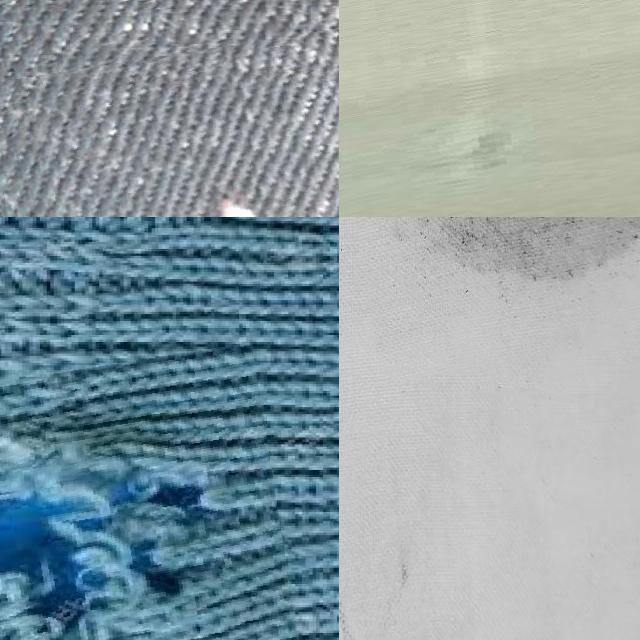Thread_other: (358, 217, 640, 367)
other: (0, 357, 288, 640)
stains: (0, 19, 339, 217), (339, 0, 640, 217)
